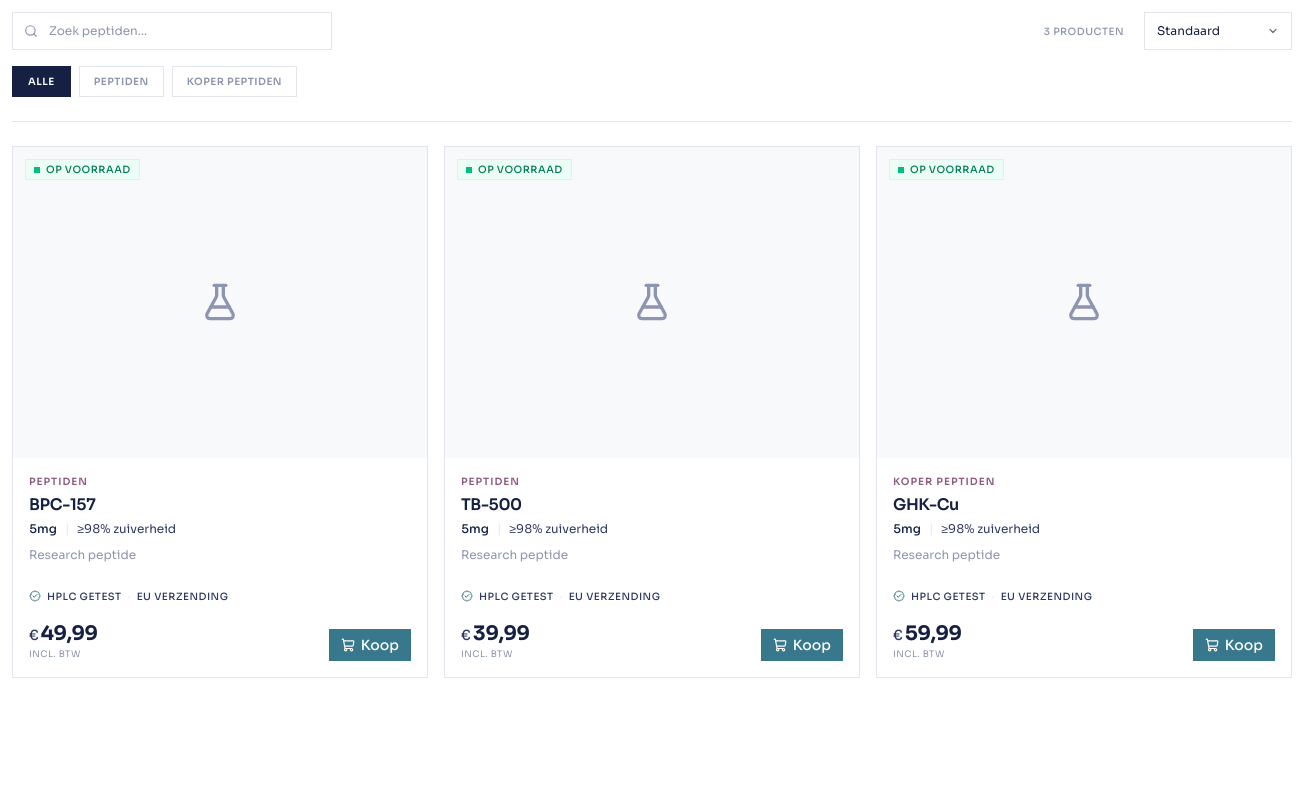
it: ProductCatalog › shows empty state when no products match filter
Type "XXXXXXXXX" into the field with placeholder "Zoek peptiden..." at {"x": 172, "y": 31}, box [12, 12, 332, 50]
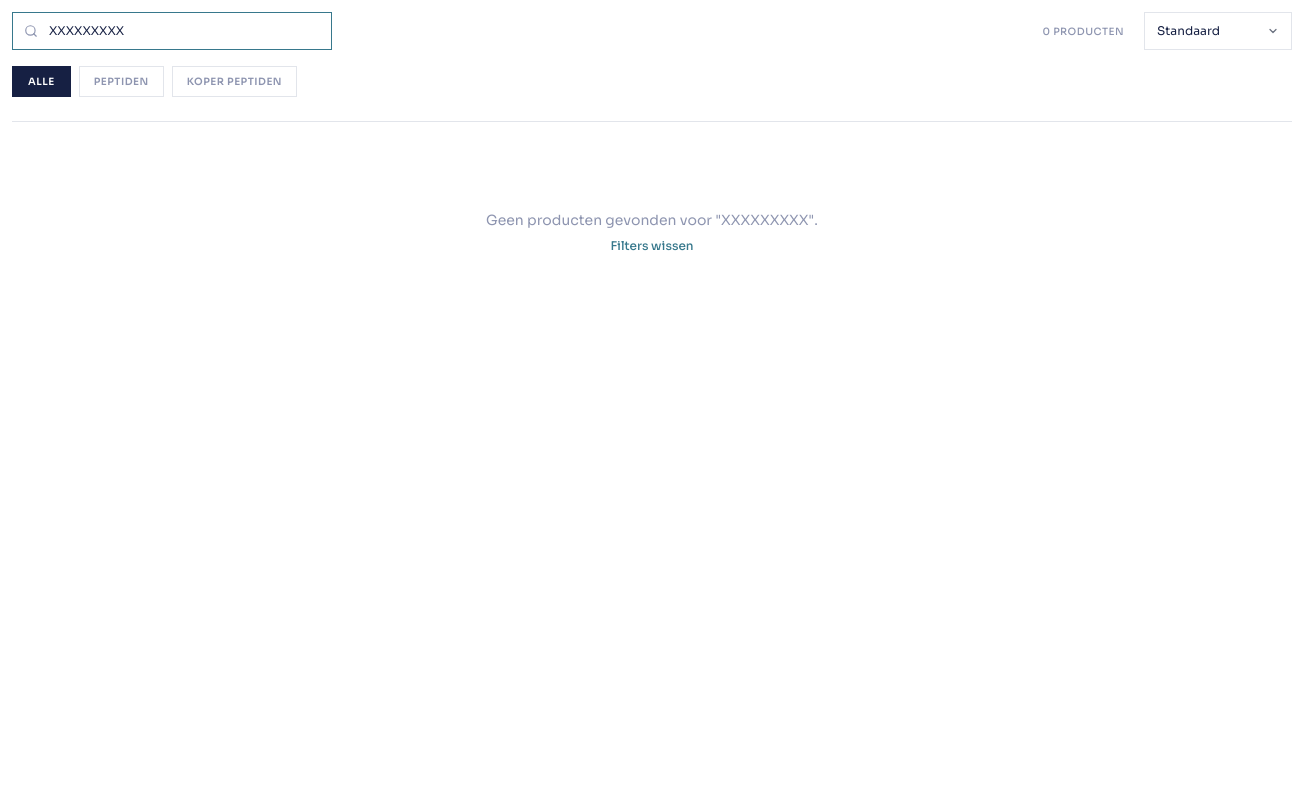
Expected: the text "Geen producten gevonden voor \"XXXXXXXXX\"." is shown, [486, 211, 818, 229]
Expected: the button "Filters wissen" is shown, [610, 238, 694, 254]
